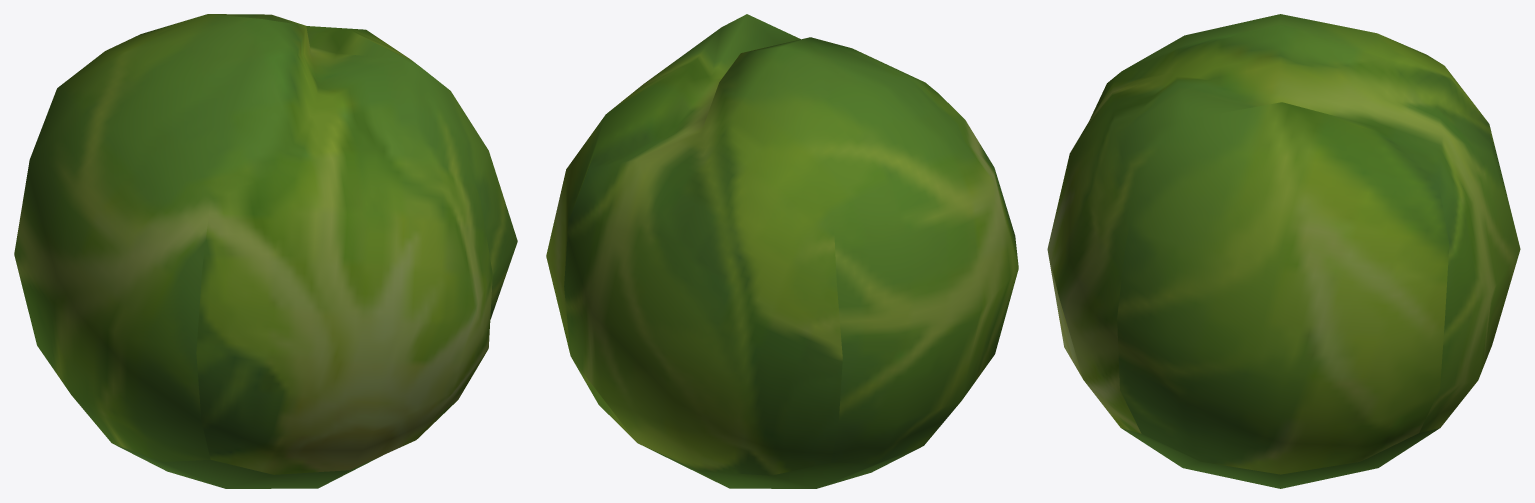
The model's file is BrusselSprout.glb.
3 renders of one model, left to right at view 1: azimuth 30°, elevation 25°; view 2: azimuth 150°, elevation 25°; view 3: azimuth 270°, elevation 25°, orthographic. The views are drawn at different scales.
Visible parts, largest first — view 1: geometry_0; view 2: geometry_0; view 3: geometry_0.
Part boxes in pixels (box(x1,y1,x2,y2)): geometry_0: box(14, 14, 517, 488); geometry_0: box(546, 14, 1018, 488); geometry_0: box(1047, 14, 1520, 488).
Bounding box in the file's own units: 2.03 × 2.02 × 1.97.
Materials: 1 (1 with a texture image).
